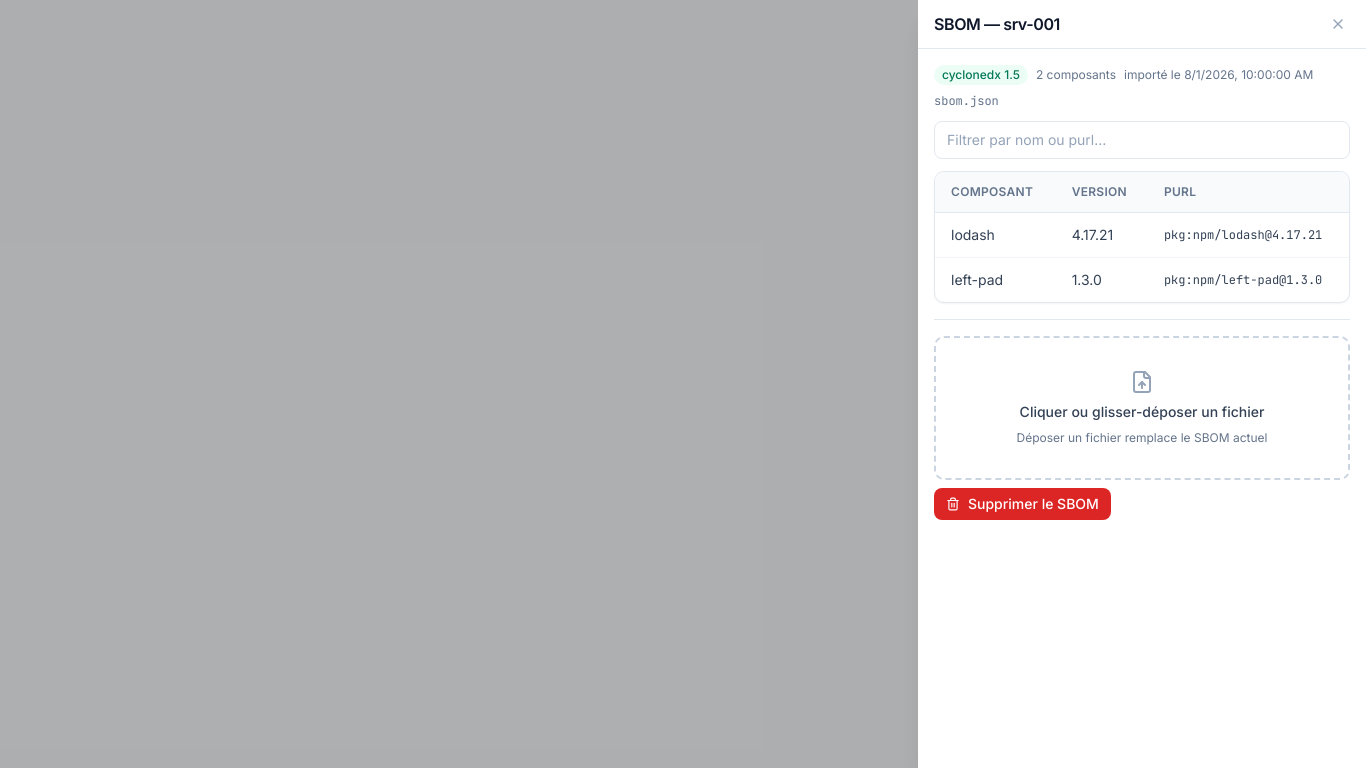
Scenario: SbomDrawer › filtre les composants par nom ou purl
The width and height of the screenshot is (1366, 768).
Expected: the text "lodash" is shown, [935,212,1056,258]
Type "left" into the field named "Filtrer les composants" at (1142, 140), box [934,121,1350,159]
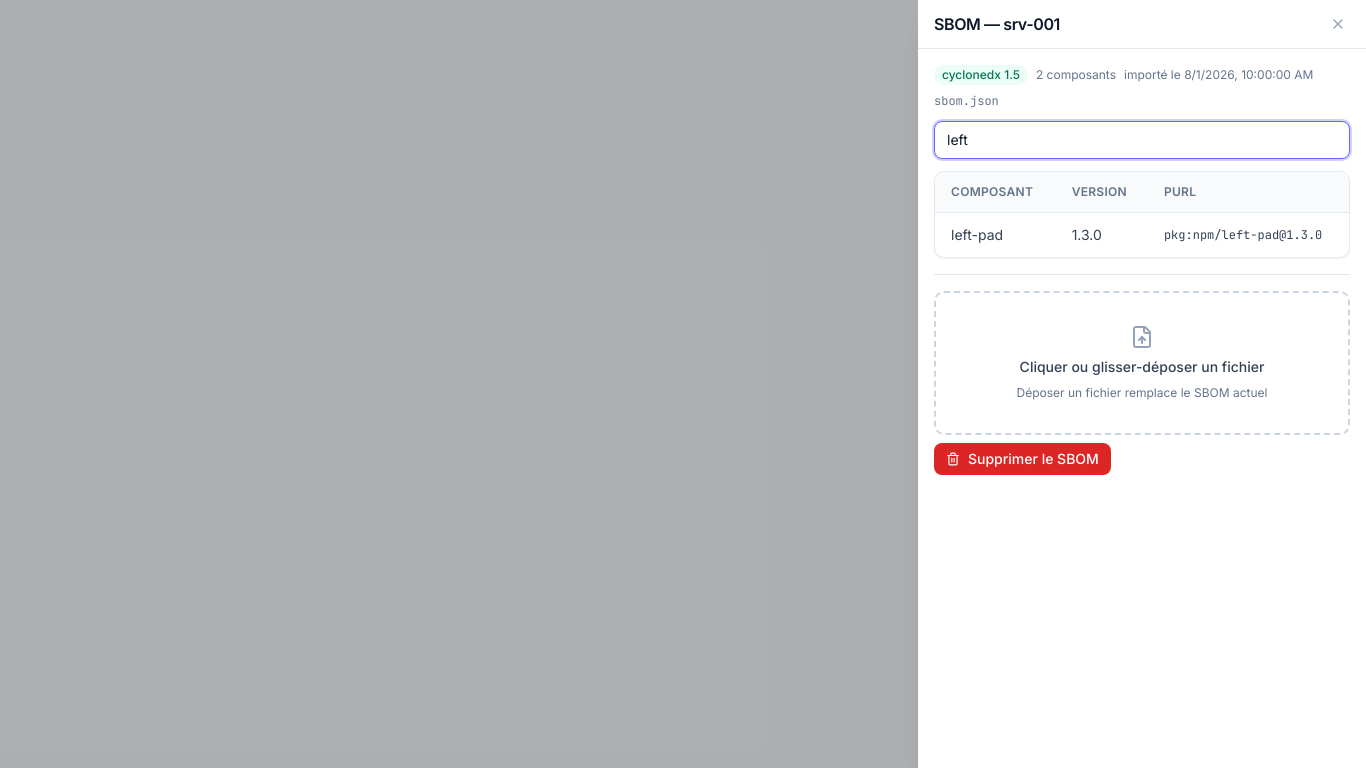
Expected: the text "left-pad" is shown, [935,212,1056,257]
Now the text "lodash" is gone
